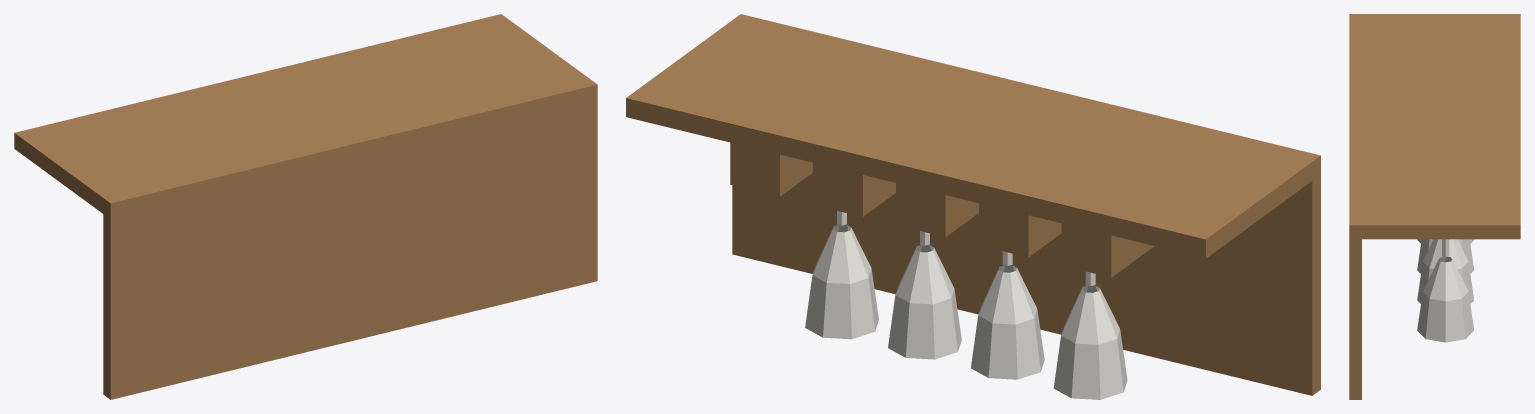
Rendered from FN_Rack_Glass.obj.
The picture shows the model from 3 angles, left to right: view 1: azimuth 30°, elevation 25°; view 2: azimuth 150°, elevation 25°; view 3: azimuth 270°, elevation 25°; orthographic projection. The views are drawn at different scales.
Visible parts, largest first — view 1: FN_Rack_Glass; view 2: FN_Rack_Glass; view 3: FN_Rack_Glass.
Part boxes in pixels (bbox=[...]): FN_Rack_Glass: bbox=[14, 14, 597, 399]; FN_Rack_Glass: bbox=[626, 14, 1320, 399]; FN_Rack_Glass: bbox=[1349, 14, 1520, 399].
Size of the model in its own units: 0.7 by 0.27 by 0.24.
1 material, 1 textured.
